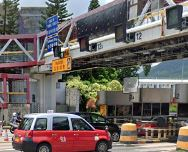Autotoll: (51, 58, 72, 73)
